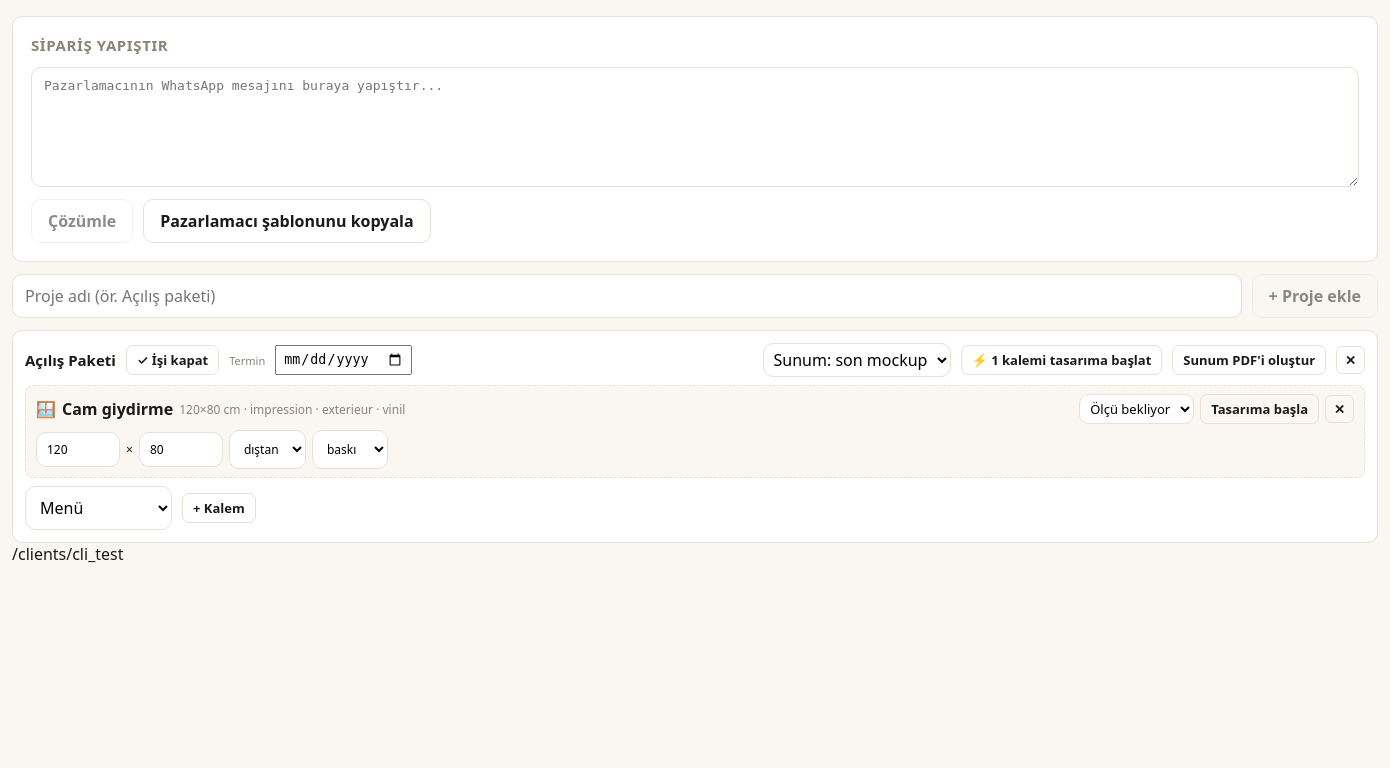
Test: ProjectsPanel · startDesign geri sarma zinciri › başarılı yol regresyonu: kalem {document_id, tasarimda} ile bağlanır ve router /editor/<id>'ye gider
The image size is (1390, 768).
Step 1. Click the button "Tasarıma başla" → (1260, 409), box left=1200, top=394, right=1319, bottom=424
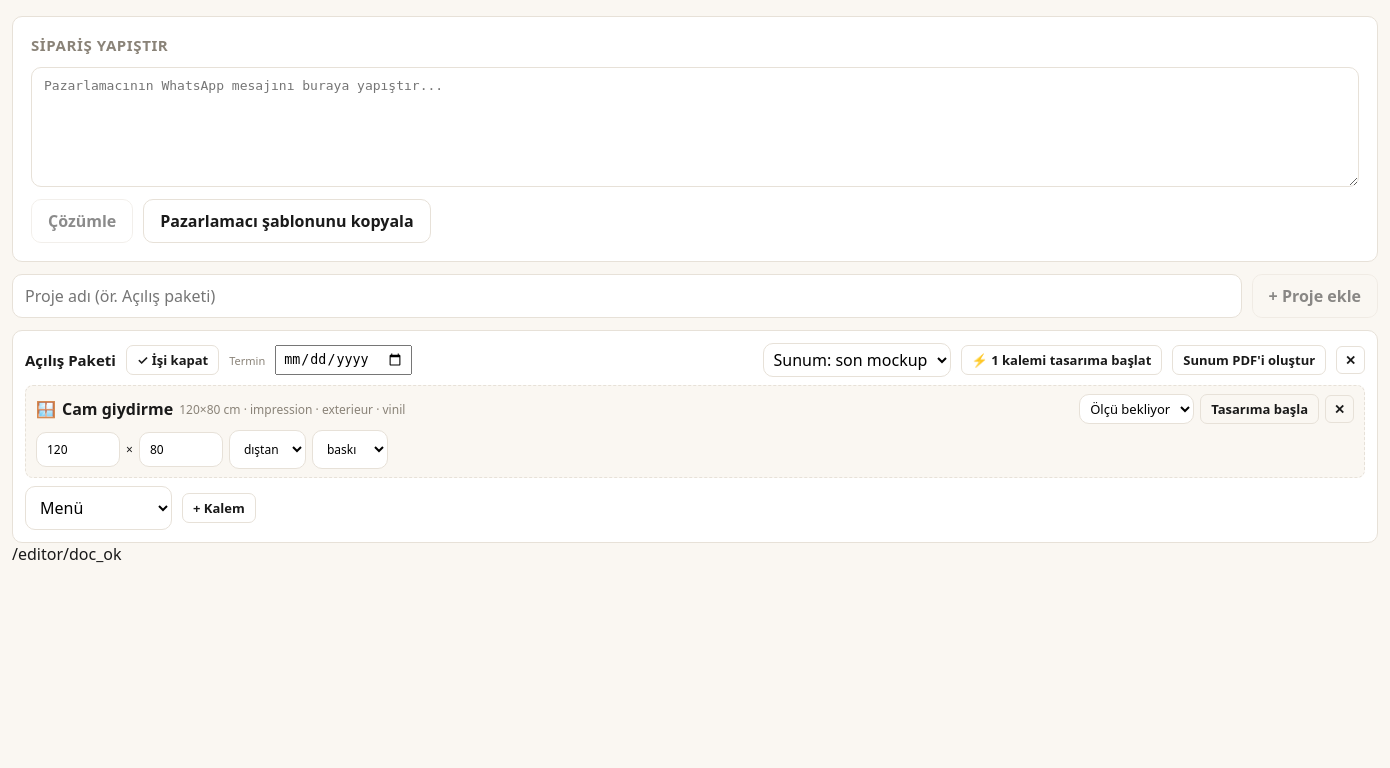
Check: the text with test id "konum" reads "/editor/doc_ok", box left=12, top=543, right=122, bottom=565
